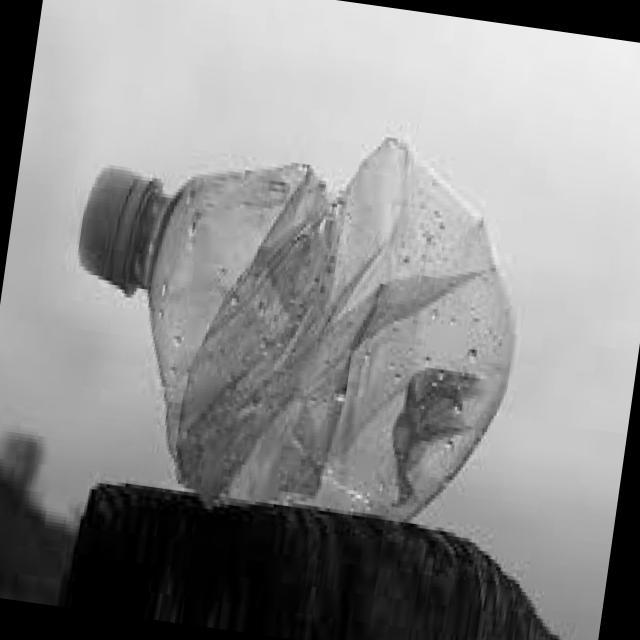defected: (35, 93, 544, 553)
